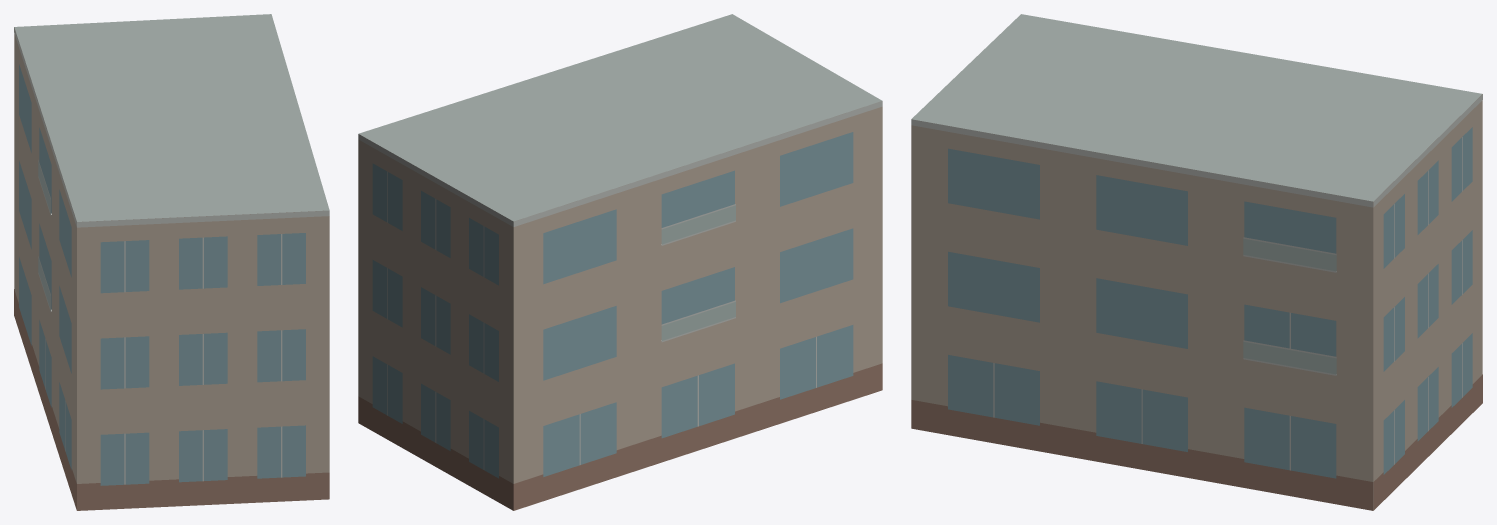
File: survey-upis-32837612.glb
3 views of the same model, side by side, from view 1: azimuth 30°, elevation 25°; view 2: azimuth 150°, elevation 25°; view 3: azimuth 270°, elevation 25° (orthographic). The views are drawn at different scales.
Visible parts, largest first — view 1: survey-upis-32837612.tmp; view 2: survey-upis-32837612.tmp; view 3: survey-upis-32837612.tmp.
Part boxes in pixels (x1,y1,x2,y2): survey-upis-32837612.tmp: (14, 14, 329, 510); survey-upis-32837612.tmp: (358, 14, 882, 510); survey-upis-32837612.tmp: (911, 14, 1482, 510).
Bounding box in the file's own units: 16.27 × 12.5 × 20.94.
